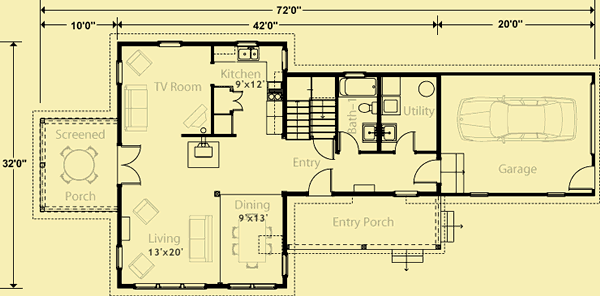dining table: (230, 209, 275, 269)
door: (115, 141, 143, 185), (568, 164, 598, 193), (410, 158, 443, 183), (309, 167, 334, 197), (311, 136, 336, 161), (394, 129, 418, 155), (231, 89, 243, 112)
large sink: (355, 102, 380, 115)
large sofa: (121, 83, 153, 135), (187, 212, 217, 265)
round table: (57, 142, 100, 186)
small sink: (360, 122, 377, 145), (382, 122, 399, 145)
small sofa: (129, 249, 155, 280), (131, 197, 159, 225), (126, 49, 154, 76)
stairs: (285, 71, 338, 144), (442, 151, 468, 194), (389, 247, 426, 271), (439, 209, 462, 244)
tub: (339, 76, 381, 98)
twin sink: (237, 45, 263, 64)
windows: (132, 280, 208, 291), (228, 280, 278, 292), (277, 249, 291, 278), (390, 188, 420, 201), (114, 56, 125, 89), (155, 39, 184, 51), (114, 240, 125, 270)
